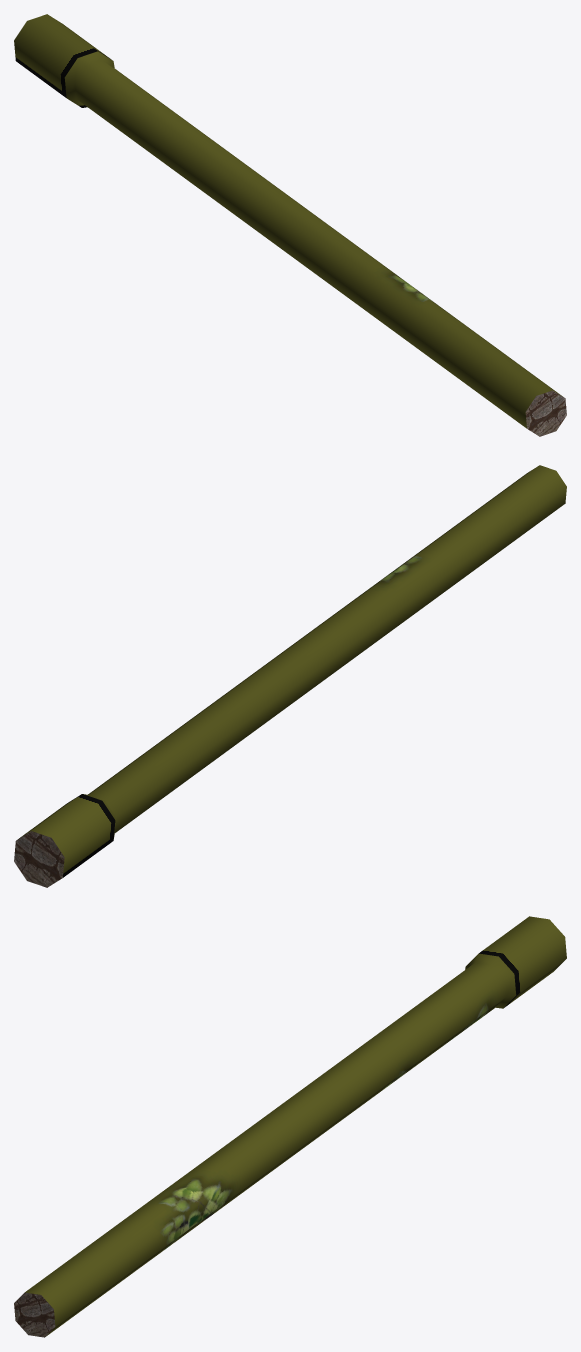
File: Pipe_c.FBX
The picture shows the model from 3 angles, top to bottom: view 1: azimuth 30°, elevation 25°; view 2: azimuth 150°, elevation 25°; view 3: azimuth 330°, elevation 25°; orthographic projection.
Visible parts, largest first — view 1: Pipe_c; view 2: Pipe_c; view 3: Pipe_c.
Boxes of the visible parts, box(x1,y1,x2,y2) form: Pipe_c: box(14, 14, 566, 436); Pipe_c: box(14, 465, 566, 887); Pipe_c: box(14, 916, 566, 1337).
Bounding box in the file's own units: 0.2336 × 4.05 × 0.2336.
